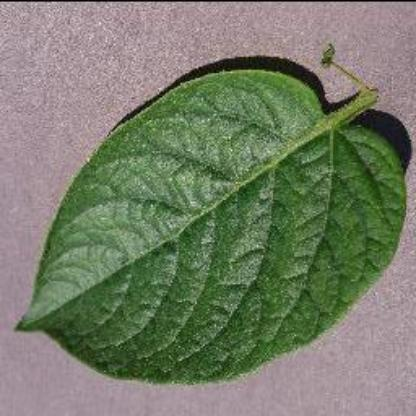Healthy-plant: (15, 30, 413, 390)
